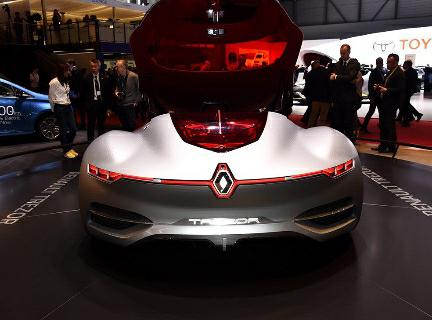雷诺-TREZOR: (80, 104, 371, 265)
